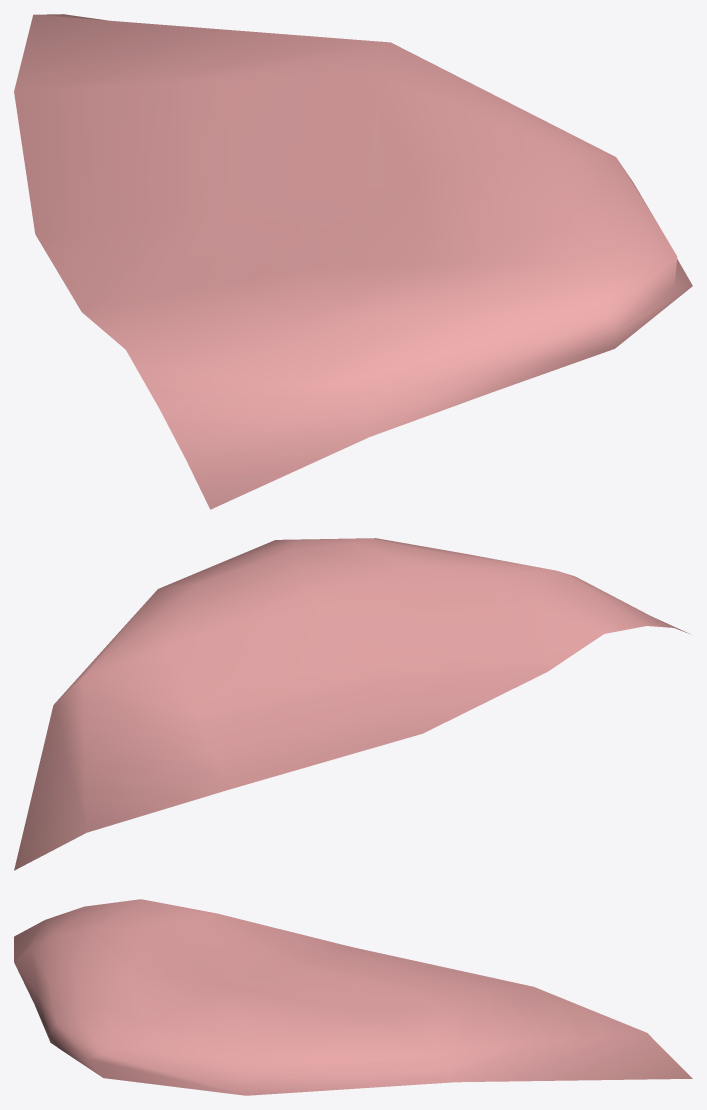
File: moss4.fbx
The picture shows the model from 3 angles, top to bottom: view 1: azimuth 30°, elevation 25°; view 2: azimuth 150°, elevation 25°; view 3: azimuth 270°, elevation 25°; orthographic projection. The views are drawn at different scales.
Parts seen in each view (by area): view 1: moss4; view 2: moss4; view 3: moss4.
Boxes of the visible parts, left/top/right/bottom form: moss4: left=14, top=14, right=692, bottom=509; moss4: left=14, top=538, right=690, bottom=870; moss4: left=14, top=899, right=692, bottom=1095.
Size of the model in its own units: 0.115 by 0.0251 by 0.1854.
Materials: 1 (1 with a texture image).
